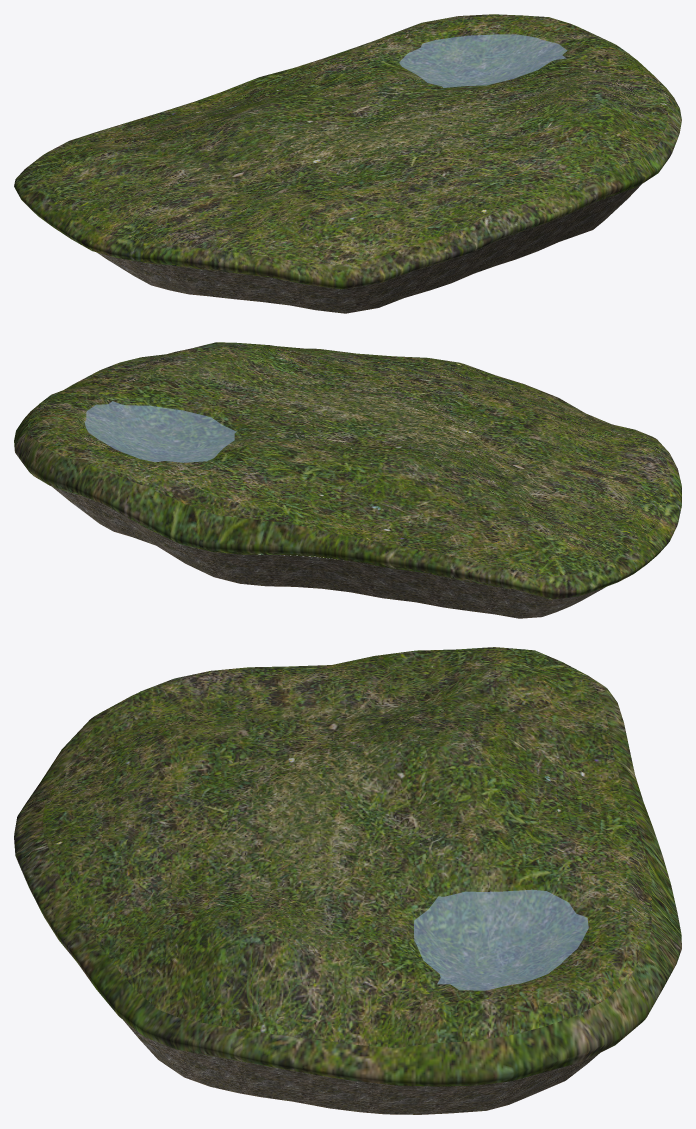
Rendered from Island_01.FBX.
The picture shows the model from 3 angles, top to bottom: view 1: azimuth 30°, elevation 25°; view 2: azimuth 150°, elevation 25°; view 3: azimuth 270°, elevation 25°; orthographic projection. The views are drawn at different scales.
Visible parts, largest first — view 1: Splat, Island_Grass, Island_Base, Island_Water; view 2: Splat, Island_Grass, Island_Base, Island_Water; view 3: Splat, Island_Grass, Island_Water, Island_Base.
Part boxes in pixels (bbox=[...]): Splat: bbox=[32, 14, 668, 265]; Island_Grass: bbox=[14, 56, 681, 289]; Island_Base: bbox=[97, 184, 641, 313]; Island_Water: bbox=[399, 34, 567, 87]; Splat: bbox=[27, 342, 669, 576]; Island_Grass: bbox=[14, 363, 681, 599]; Island_Base: bbox=[52, 486, 605, 618]; Island_Water: bbox=[85, 401, 236, 462]; Splat: bbox=[42, 647, 651, 1047]; Island_Grass: bbox=[14, 650, 681, 1086]; Island_Water: bbox=[414, 889, 588, 990]; Island_Base: bbox=[123, 1020, 599, 1114].
Size of the model in its own units: 770 by 134 by 505.
